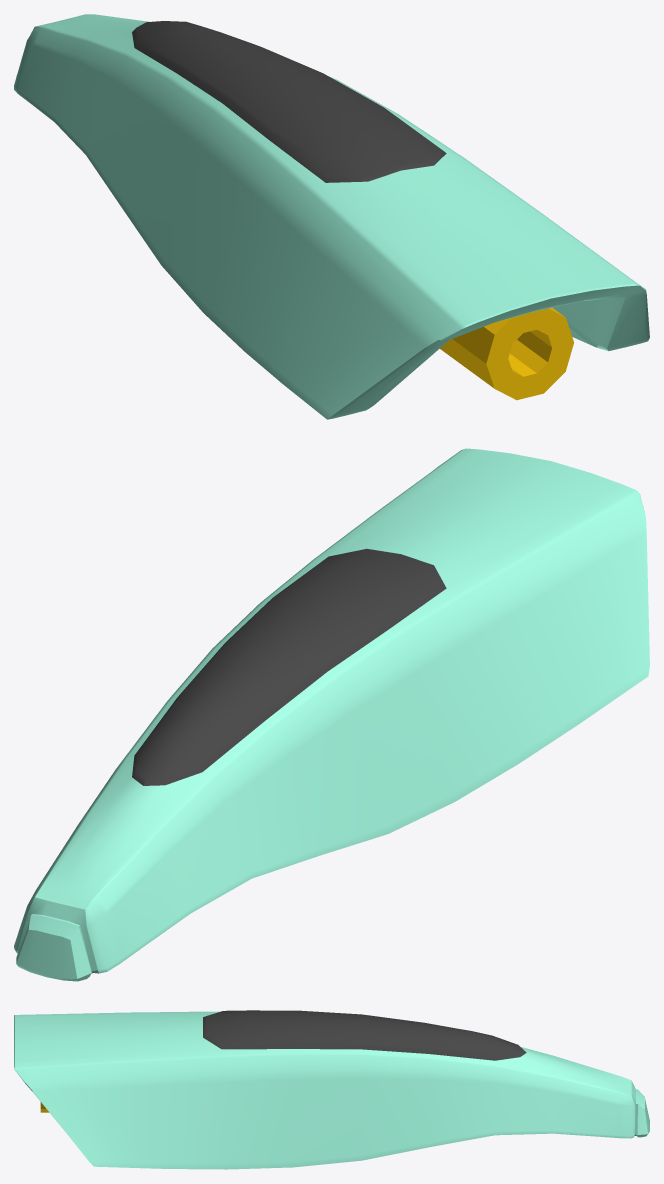
Rendered from shipTest.glb.
3 views of the same model, one above another, from view 1: azimuth 30°, elevation 25°; view 2: azimuth 150°, elevation 25°; view 3: azimuth 270°, elevation 25° (orthographic). The views are drawn at different scales.
Parts seen in each view (by area): view 1: hull, canopy, rocket; view 2: hull, canopy; view 3: hull, canopy.
Boxes of the visible parts, x1,y1,x2,y2 form: hull: (14,14,649,419); canopy: (132,21,446,182); rocket: (440,307,573,400); hull: (14,448,649,981); canopy: (132,548,446,785); hull: (14,1011,649,1169); canopy: (203,1010,526,1060).
Bounding box in the file's own units: 1.7 × 0.8998 × 4.65.
